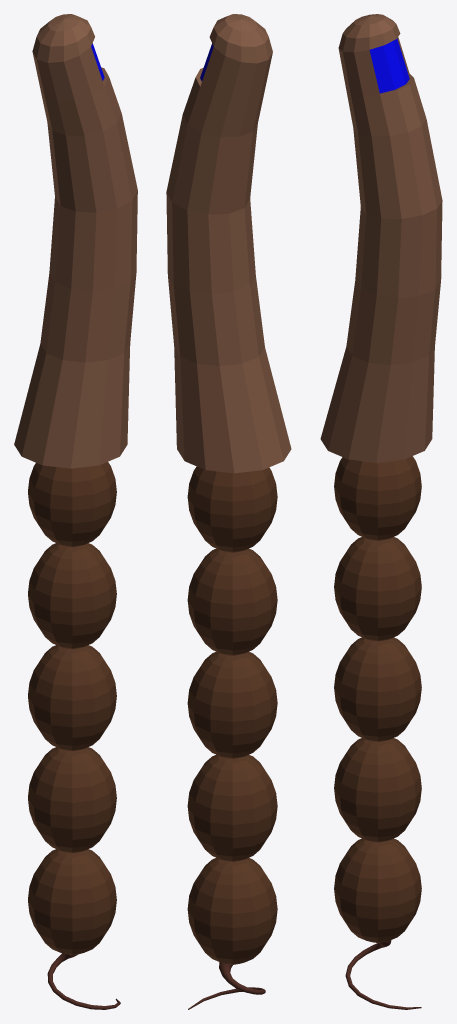
Rendered from Wand 249.glb.
3 views of the same model, side by side, from view 1: azimuth 30°, elevation 25°; view 2: azimuth 150°, elevation 25°; view 3: azimuth 330°, elevation 25° (orthographic). The views are drawn at different scales.
Parts seen in each view (by area): view 1: GeneratedWand; view 2: GeneratedWand; view 3: GeneratedWand.
Part boxes in pixels (left/top/right/bottom): GeneratedWand: left=14, top=14, right=137, bottom=1009; GeneratedWand: left=166, top=14, right=291, bottom=1009; GeneratedWand: left=320, top=14, right=442, bottom=1009.
Size of the model in its own units: 0.0644 by 0.5522 by 0.0572.
